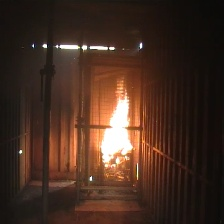fire: (97, 87, 139, 169)
